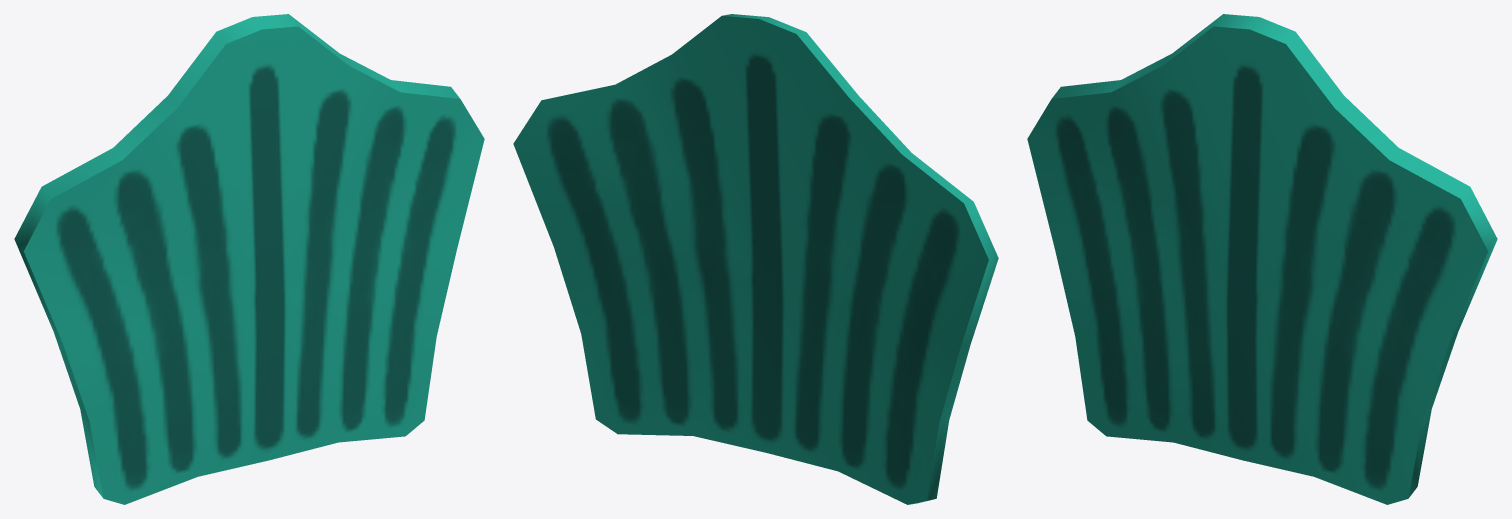
The picture shows the model from 3 angles, left to right: view 1: azimuth 30°, elevation 25°; view 2: azimuth 150°, elevation 25°; view 3: azimuth 330°, elevation 25°; orthographic projection. The views are drawn at different scales.
Visible parts, largest first — view 1: wk_s02_70; view 2: wk_s02_70; view 3: wk_s02_70.
Part boxes in pixels (<box>): wk_s02_70: <box>14,14,484,504</box>; wk_s02_70: <box>513,14,998,504</box>; wk_s02_70: <box>1027,14,1497,504</box>.
Size of the model in its own units: 1.04 by 0.1021 by 0.9592.
Materials: 1 (1 with a texture image).
